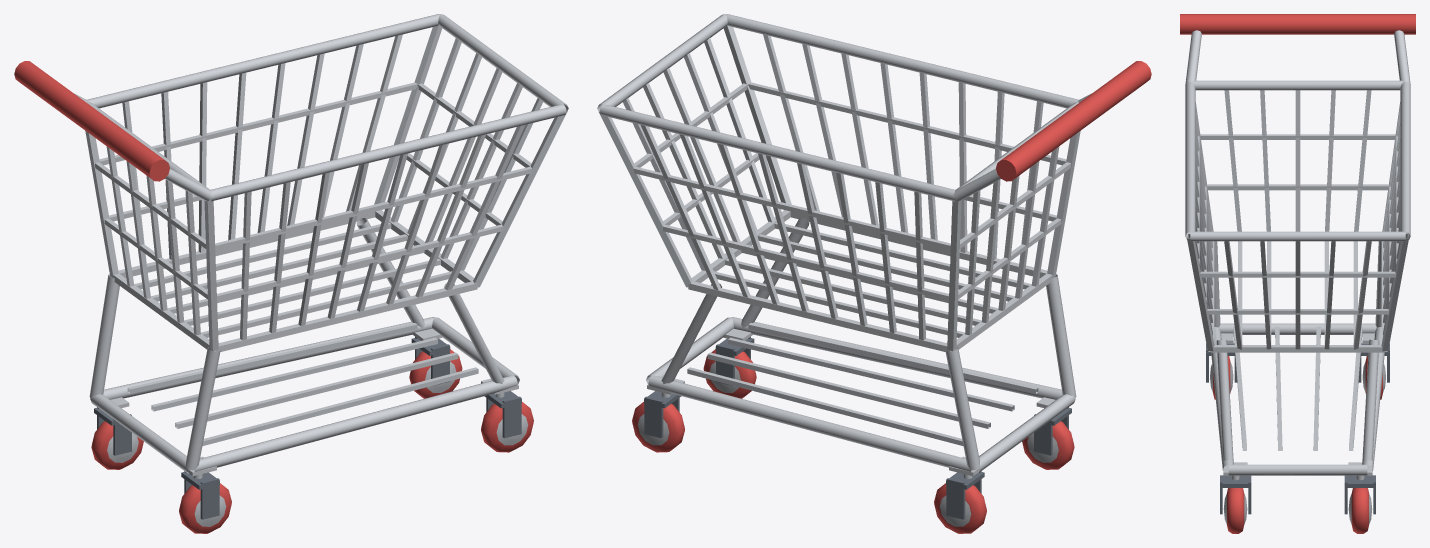
The model's file is Prop_ShoppingCart.fbx.
3 views of the same model, side by side, from view 1: azimuth 30°, elevation 25°; view 2: azimuth 150°, elevation 25°; view 3: azimuth 270°, elevation 25° (orthographic). The views are drawn at different scales.
Visible parts, largest first — view 1: Prop_ShoppingCart; view 2: Prop_ShoppingCart; view 3: Prop_ShoppingCart.
Part boxes in pixels (bbox=[...]): Prop_ShoppingCart: bbox=[14, 14, 568, 533]; Prop_ShoppingCart: bbox=[597, 14, 1151, 533]; Prop_ShoppingCart: bbox=[1180, 14, 1415, 533].
Bounding box in the file's own units: 1.23 × 1.13 × 0.68.
1 material, 1 textured.
